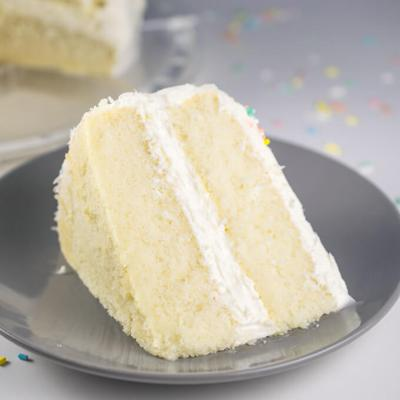cake: (50, 80, 355, 363)
